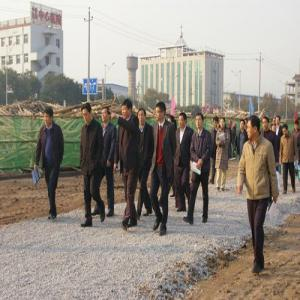none: (247, 114, 262, 143), (122, 99, 133, 122), (155, 101, 167, 122), (82, 103, 93, 125), (44, 108, 55, 128), (178, 112, 189, 131), (102, 107, 113, 125), (138, 108, 147, 128), (195, 114, 205, 131), (263, 117, 271, 132), (281, 124, 290, 136), (213, 116, 220, 130), (275, 115, 282, 126), (240, 119, 246, 131), (221, 118, 227, 129), (272, 124, 278, 135), (295, 121, 300, 131)
red: (233, 122, 238, 131), (229, 121, 233, 130)
